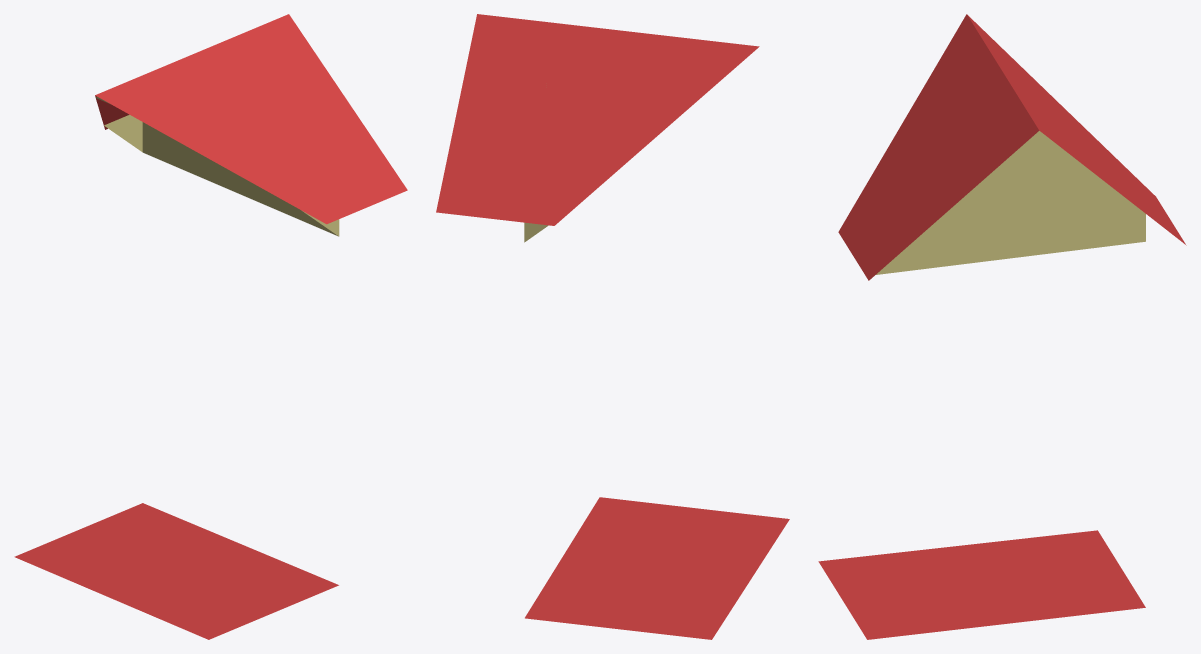
3 views of the same model, side by side, from view 1: azimuth 30°, elevation 25°; view 2: azimuth 150°, elevation 25°; view 3: azimuth 270°, elevation 25° (orthographic). The views are drawn at different scales.
Bounding box in the file's own units: 8.64 × 9.28 × 14.61.
